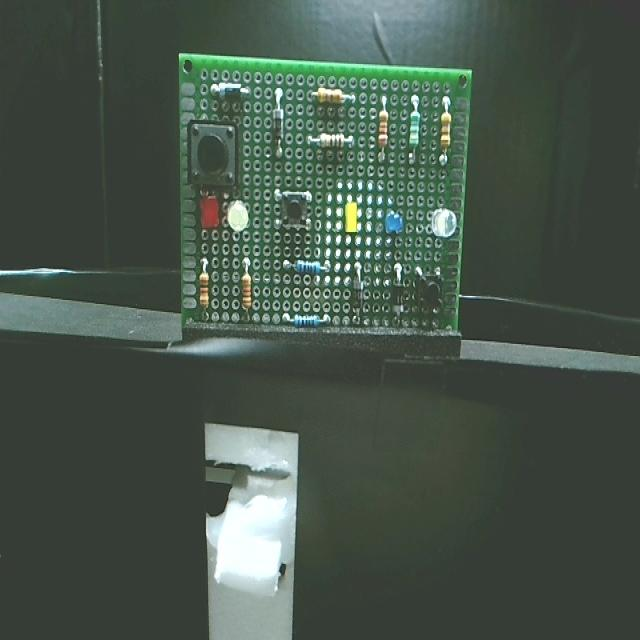diode: (207, 74, 251, 104), (388, 262, 406, 324), (268, 101, 288, 156), (352, 262, 364, 325)
led: (425, 202, 460, 246), (198, 190, 221, 240), (223, 198, 253, 233), (382, 196, 404, 238), (342, 203, 362, 241)
resistor: (234, 261, 262, 317), (372, 106, 397, 158), (304, 129, 354, 154), (192, 262, 213, 320), (437, 90, 452, 166), (406, 95, 423, 160), (288, 310, 328, 336), (291, 251, 324, 281), (307, 85, 354, 106)
switch: (186, 117, 241, 188), (266, 182, 313, 233), (414, 264, 446, 318)
